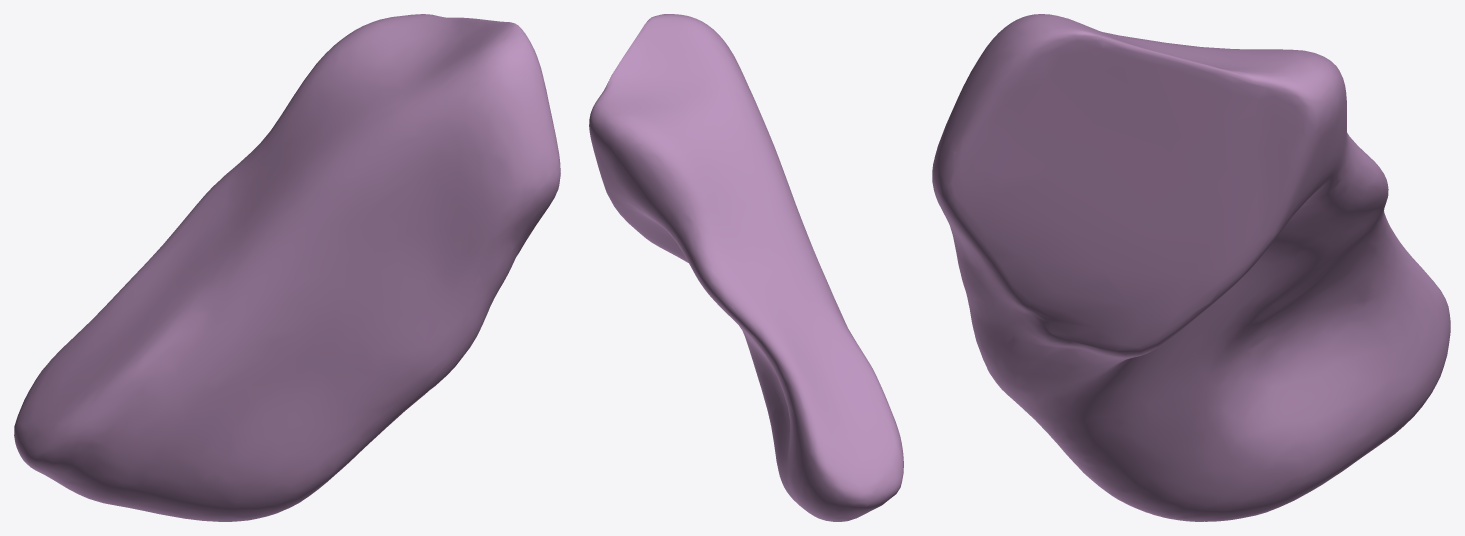
The picture shows the model from 3 angles, left to right: view 1: azimuth 30°, elevation 25°; view 2: azimuth 150°, elevation 25°; view 3: azimuth 270°, elevation 25°; orthographic projection. The views are drawn at different scales.
Visible parts, largest first — view 1: 右侧前方形小叶; view 2: 右侧前方形小叶; view 3: 右侧前方形小叶.
Boxes of the visible parts, <box> form: 右侧前方形小叶: <box>14,14,560,521</box>; 右侧前方形小叶: <box>589,14,903,521</box>; 右侧前方形小叶: <box>932,14,1450,521</box>.
Size of the model in its own units: 0.0449 by 0.0513 by 0.0369.
